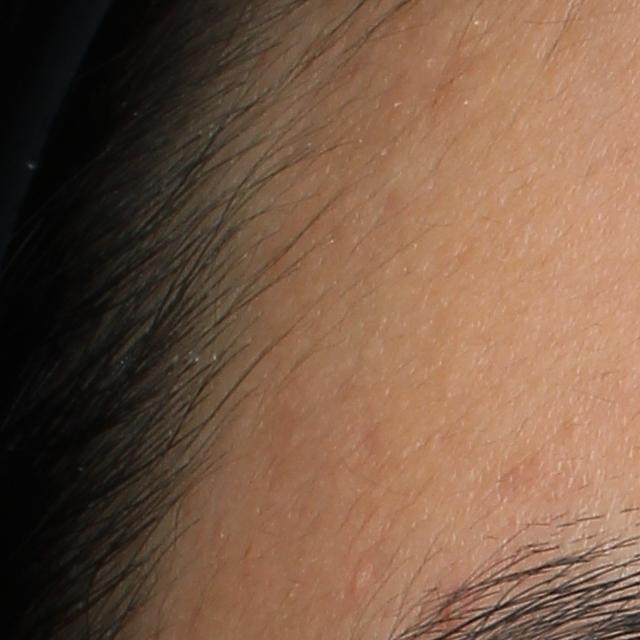papule: (347, 550, 379, 603)
